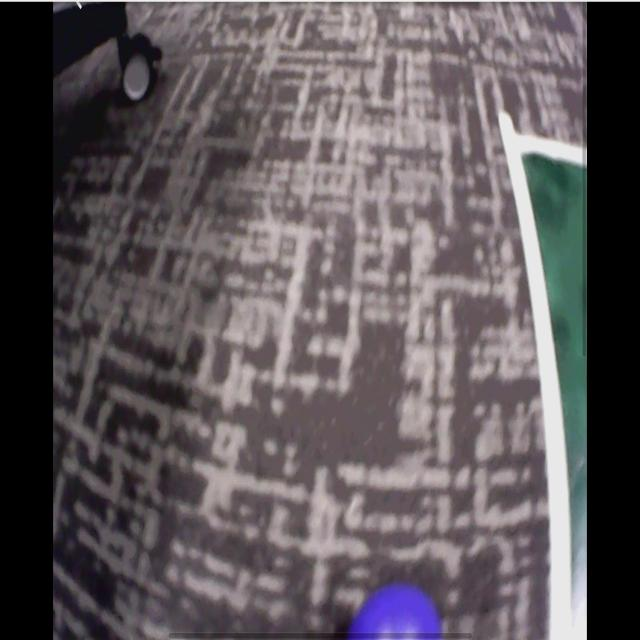ball: (350, 586, 439, 640)
